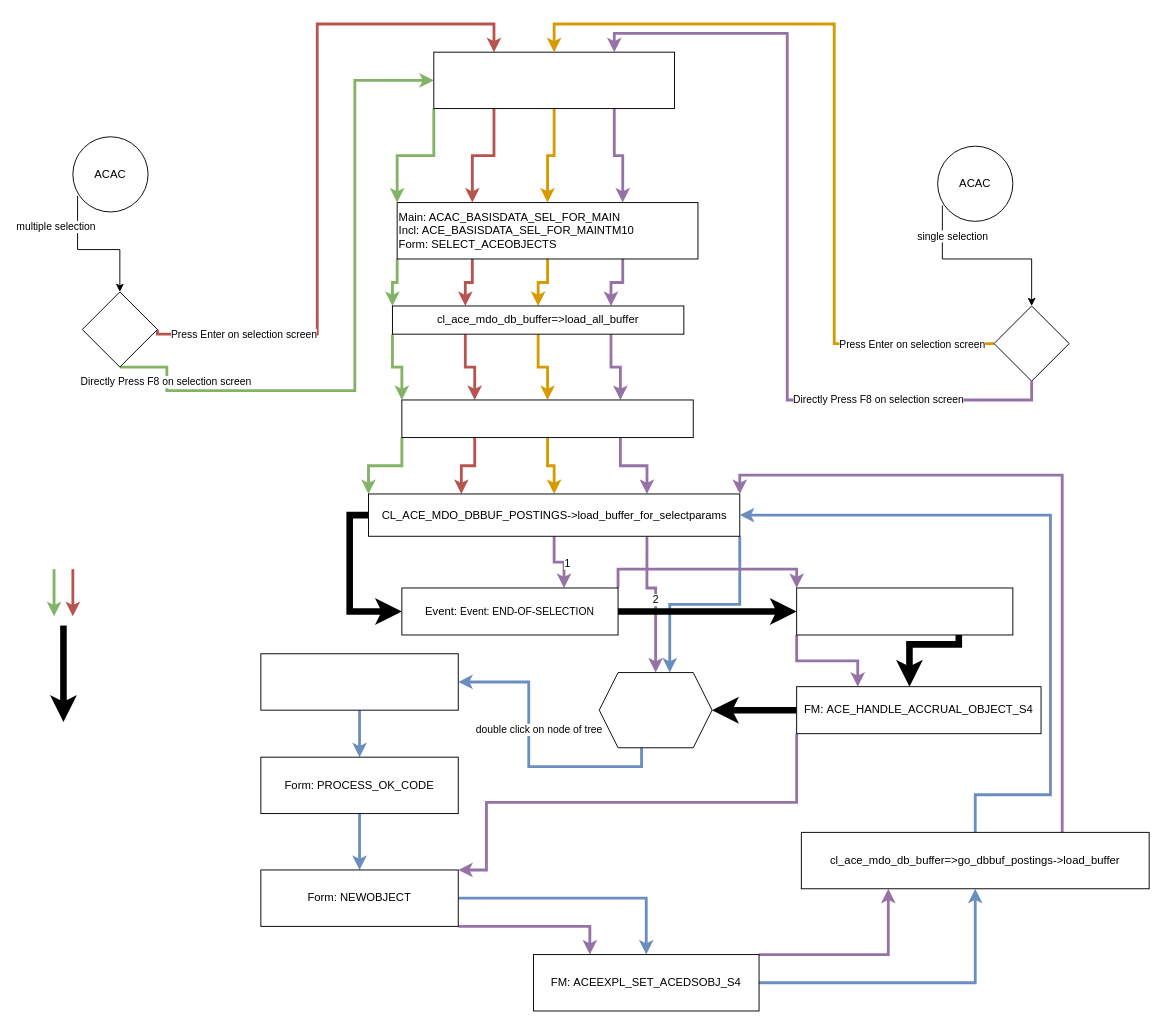
Some shapes in this 1166 by 1027 pixel diagram are drawn without their labels. The centre of each missing label's shape, as x and y in pixels:
"CL_ACE_MDO_DBBUF_POSTINGS->load_buffer" belongs at pixel 547 418.
"Event : AT SELECTION-SCREEN" belongs at pixel 553 80.
"Form: CALL_TREE_FOR_DISPLAY" belongs at pixel 904 611.
"PAI Module: d1000_ok_code" belongs at pixel 359 681.
"Tree UI displays" belongs at pixel 655 710.
